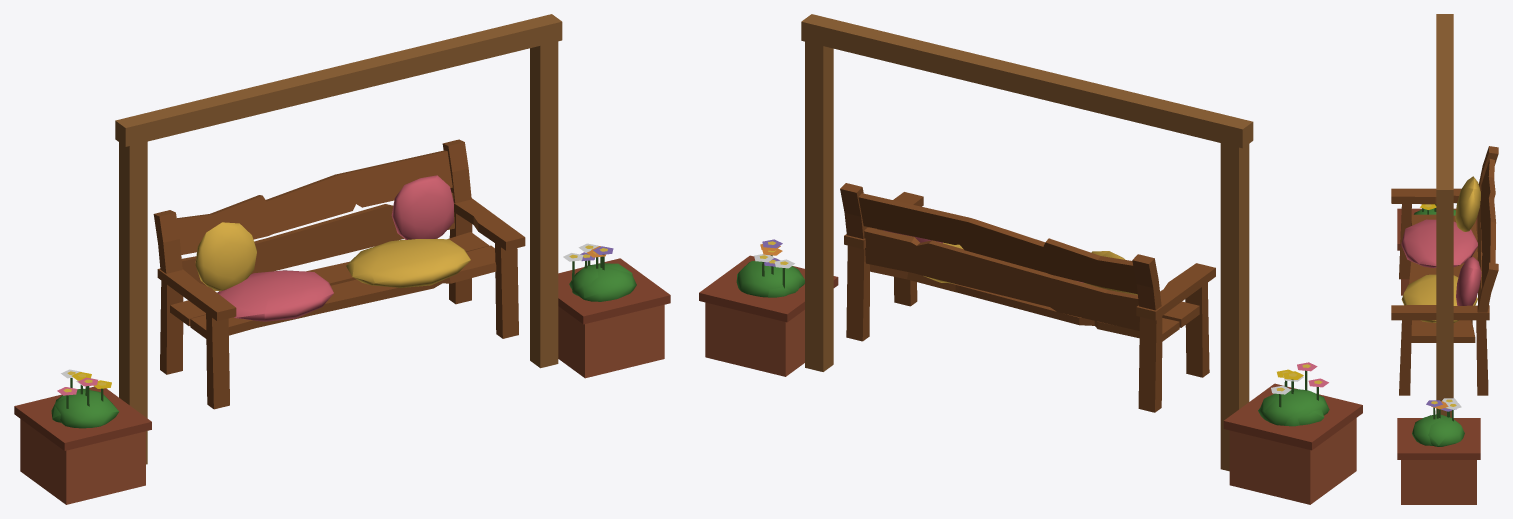
Rendered from bench_swing-2.glb.
3 views of the same model, side by side, from view 1: azimuth 30°, elevation 25°; view 2: azimuth 150°, elevation 25°; view 3: azimuth 270°, elevation 25° (orthographic). The views are drawn at different scales.
Visible parts, largest first — view 1: decor-bench_swing-2; view 2: decor-bench_swing-2; view 3: decor-bench_swing-2.
Boxes of the visible parts, x1,y1,x2,y2 form: decor-bench_swing-2: (14,14,670,504); decor-bench_swing-2: (699,14,1362,504); decor-bench_swing-2: (1391,14,1498,504).
Size of the model in its own units: 4.72 by 2.54 by 0.8747.
